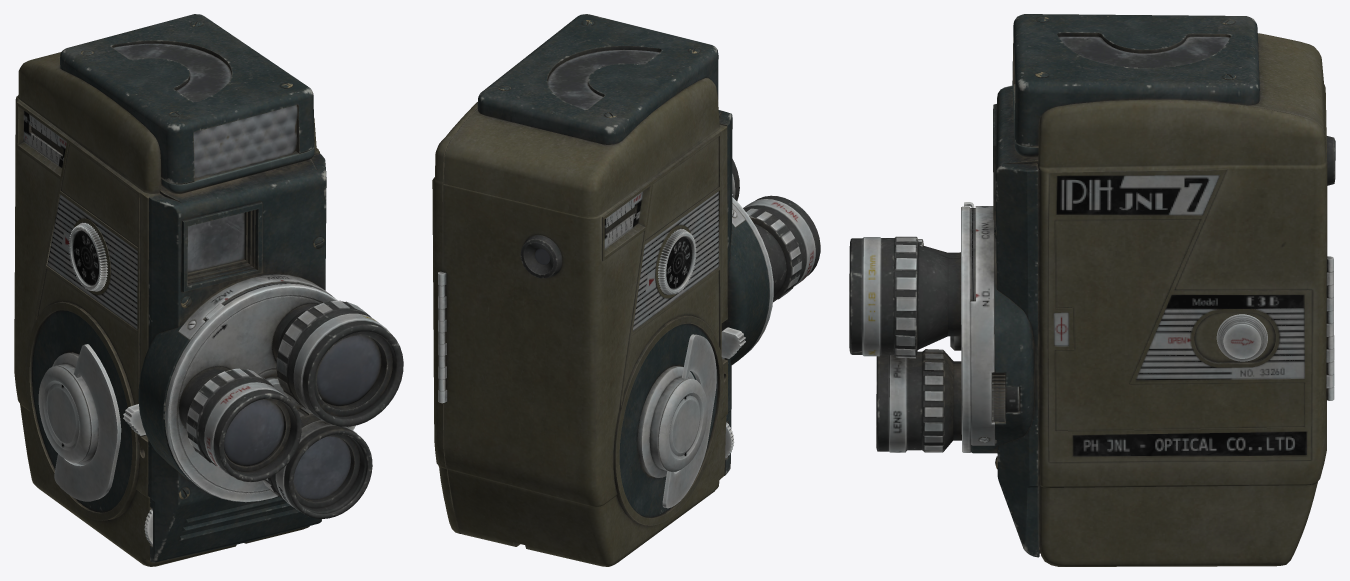
Rendered from vintage_video_camera_2k.fbx.
3 views of the same model, side by side, from view 1: azimuth 30°, elevation 25°; view 2: azimuth 150°, elevation 25°; view 3: azimuth 270°, elevation 25° (orthographic). The views are drawn at different scales.
Visible parts, largest first — view 1: vintage_video_camera; view 2: vintage_video_camera; view 3: vintage_video_camera.
Part boxes in pixels (left/top/right/bottom): vintage_video_camera: left=14, top=14, right=403, bottom=566; vintage_video_camera: left=432, top=14, right=820, bottom=566; vintage_video_camera: left=849, top=14, right=1335, bottom=566.
Size of the model in its own units: 7.12 by 14.5 by 13.26.
2 materials, 2 textured.
